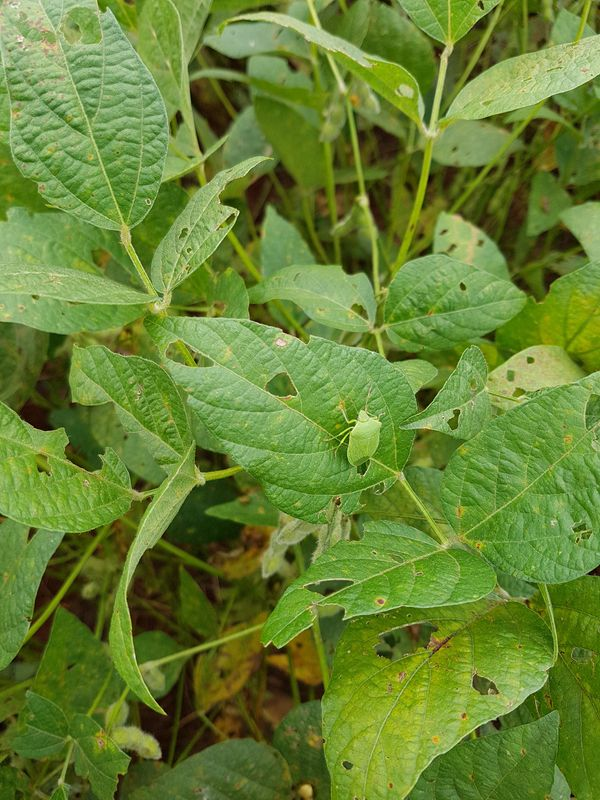Nezara_viridula_adulto: (325, 391, 397, 484)
